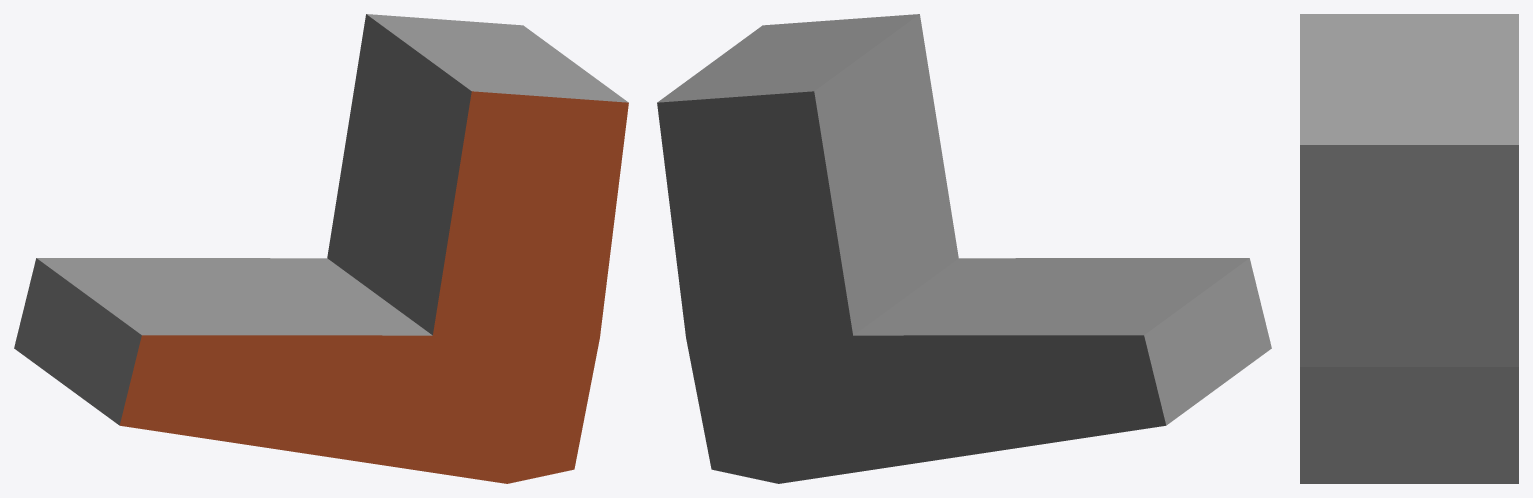
File: construction_6703_assumed_A_Casa_h6m.obj
3 renders of one model, left to right at view 1: azimuth 30°, elevation 25°; view 2: azimuth 150°, elevation 25°; view 3: azimuth 270°, elevation 25°, orthographic. The views are drawn at different scales.
Visible parts, largest first — view 1: construction_6703_assumed_A_Casa; view 2: construction_6703_assumed_A_Casa; view 3: construction_6703_assumed_A_Casa.
Part boxes in pixels (x1=…): construction_6703_assumed_A_Casa: x1=14, y1=14, x2=628, y2=483; construction_6703_assumed_A_Casa: x1=657, y1=14, x2=1271, y2=483; construction_6703_assumed_A_Casa: x1=1300, y1=14, x2=1518, y2=483.
Size of the model in its own units: 16.7 by 12.64 by 6.
